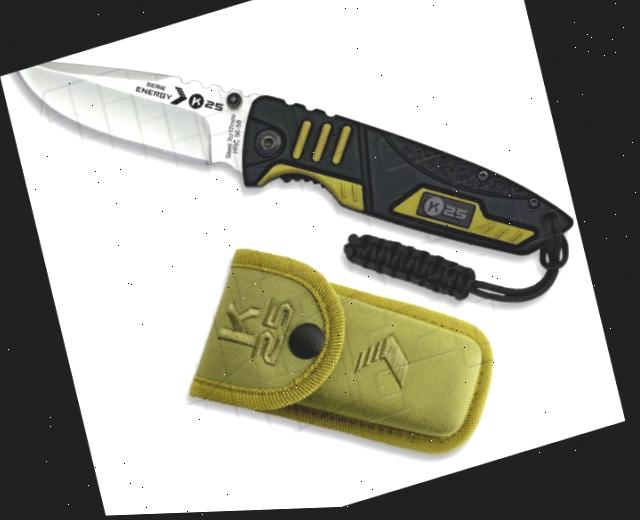pocket-knife: (0, 0, 601, 438)
